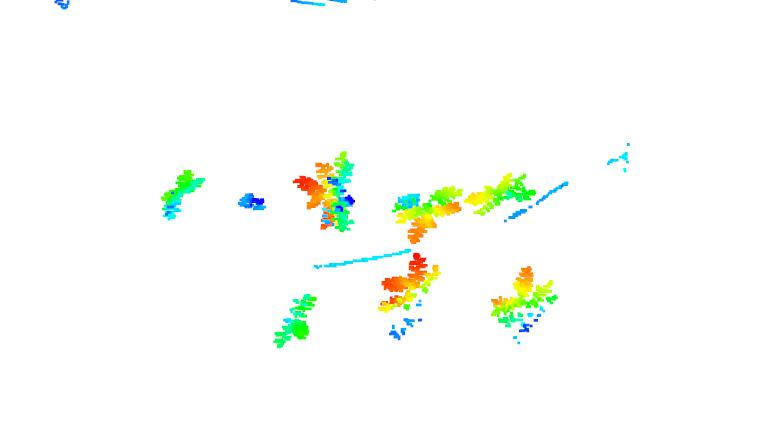chickpea: (292, 152, 361, 235), (490, 263, 560, 340), (374, 254, 437, 338), (394, 184, 463, 243), (468, 170, 540, 218), (152, 167, 208, 223), (270, 293, 321, 351)
